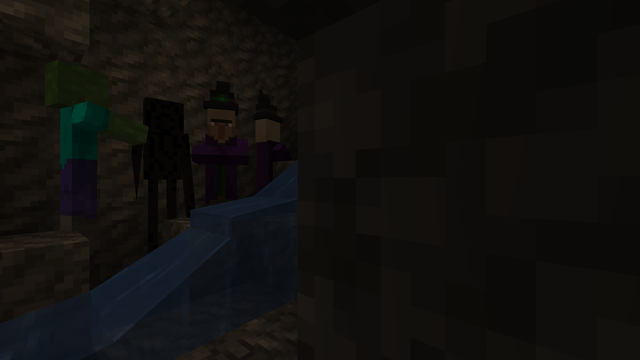endermens: (136, 89, 189, 294)
sorcieres: (205, 102, 243, 216), (253, 113, 284, 210)
zombies: (38, 60, 109, 235)
